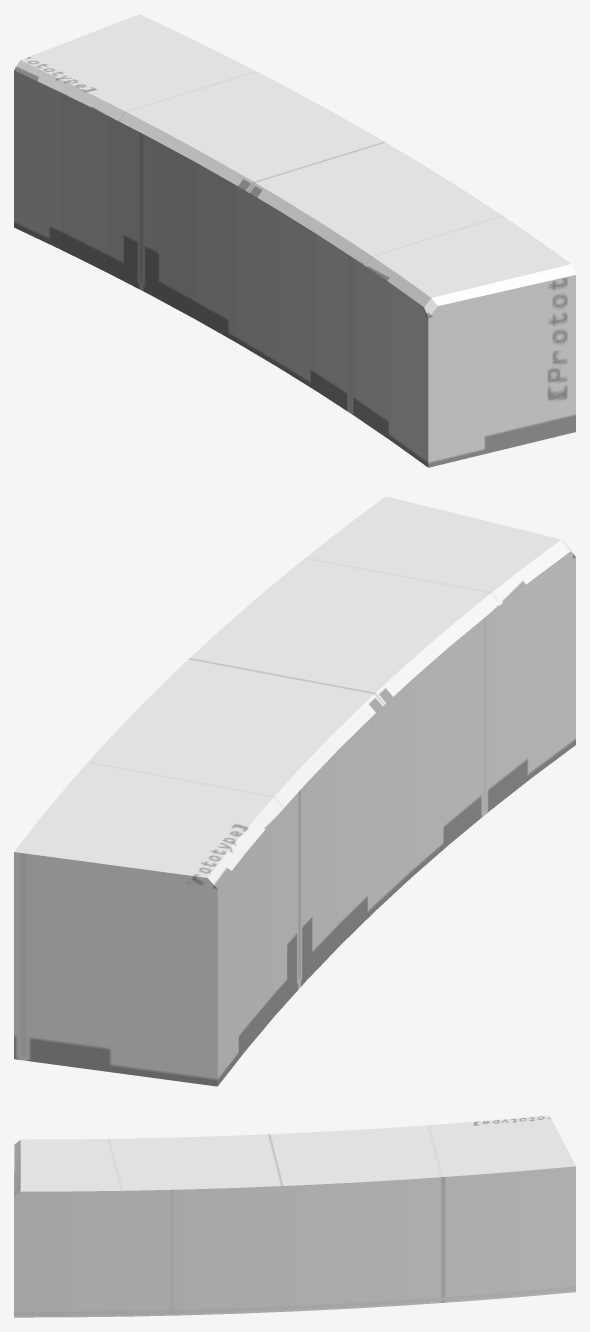
Rendered from Platform_Waterfall_Arch02.fbx.
The picture shows the model from 3 angles, top to bottom: view 1: azimuth 30°, elevation 25°; view 2: azimuth 150°, elevation 25°; view 3: azimuth 270°, elevation 25°; orthographic projection. The views are drawn at different scales.
Visible parts, largest first — view 1: Platform_Waterfall_Arch02; view 2: Platform_Waterfall_Arch02; view 3: Platform_Waterfall_Arch02.
Part boxes in pixels (x1,y1,x2,y2): Platform_Waterfall_Arch02: (14,14,575,467); Platform_Waterfall_Arch02: (14,496,575,1086); Platform_Waterfall_Arch02: (14,1115,575,1317).
Size of the model in its own units: 28.78 by 21.4 by 86.6.
Materials: 1 (1 with a texture image).
